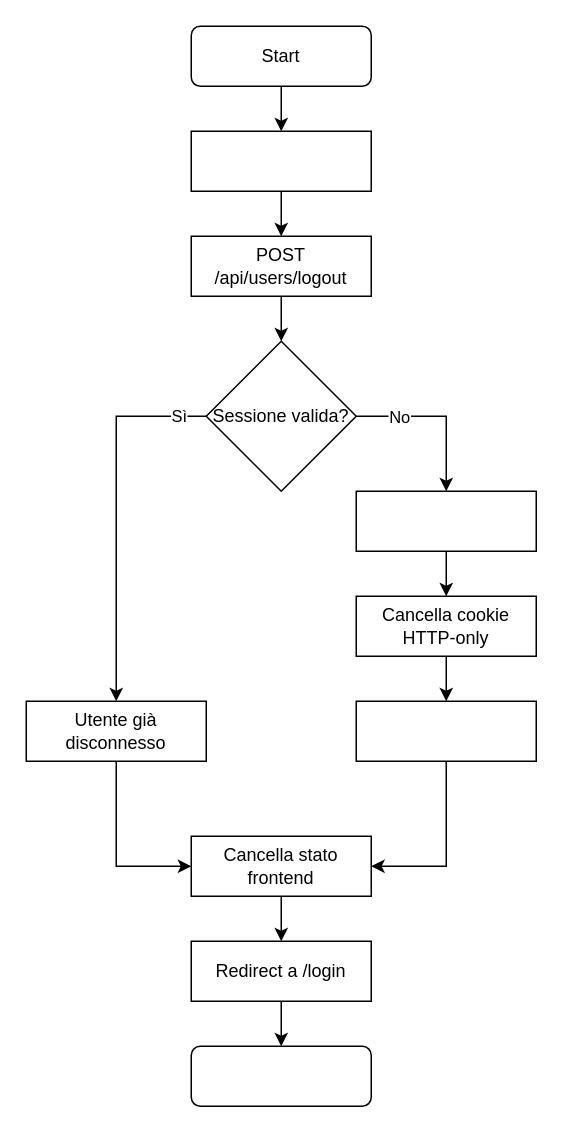
Image size: 563x1133. Some labels were removed from this diagram. The shapes that lost their labels are listed below. From the top down, each one's centre as x and y in pixels, then its label:
At (280,160): "Utente clicca logout".
At (445,520): "Invalida refresh token".
At (445,730): "200 - Logout successful".
At (280,1075): "Fine".
